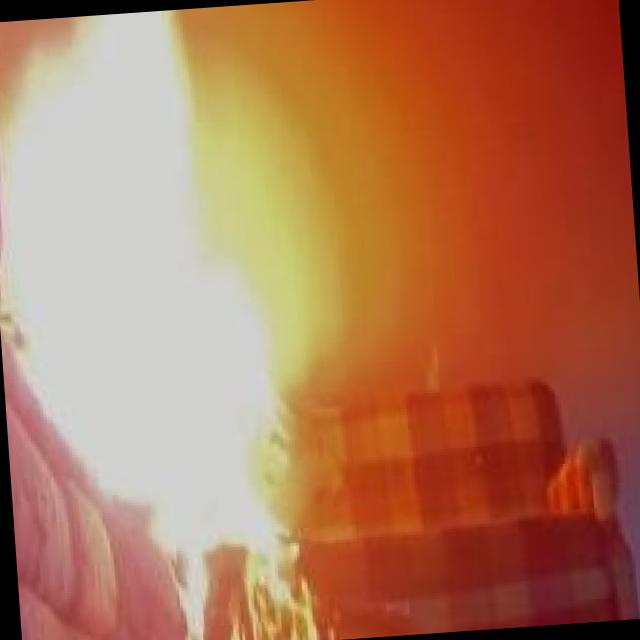fire: (0, 0, 363, 635)
